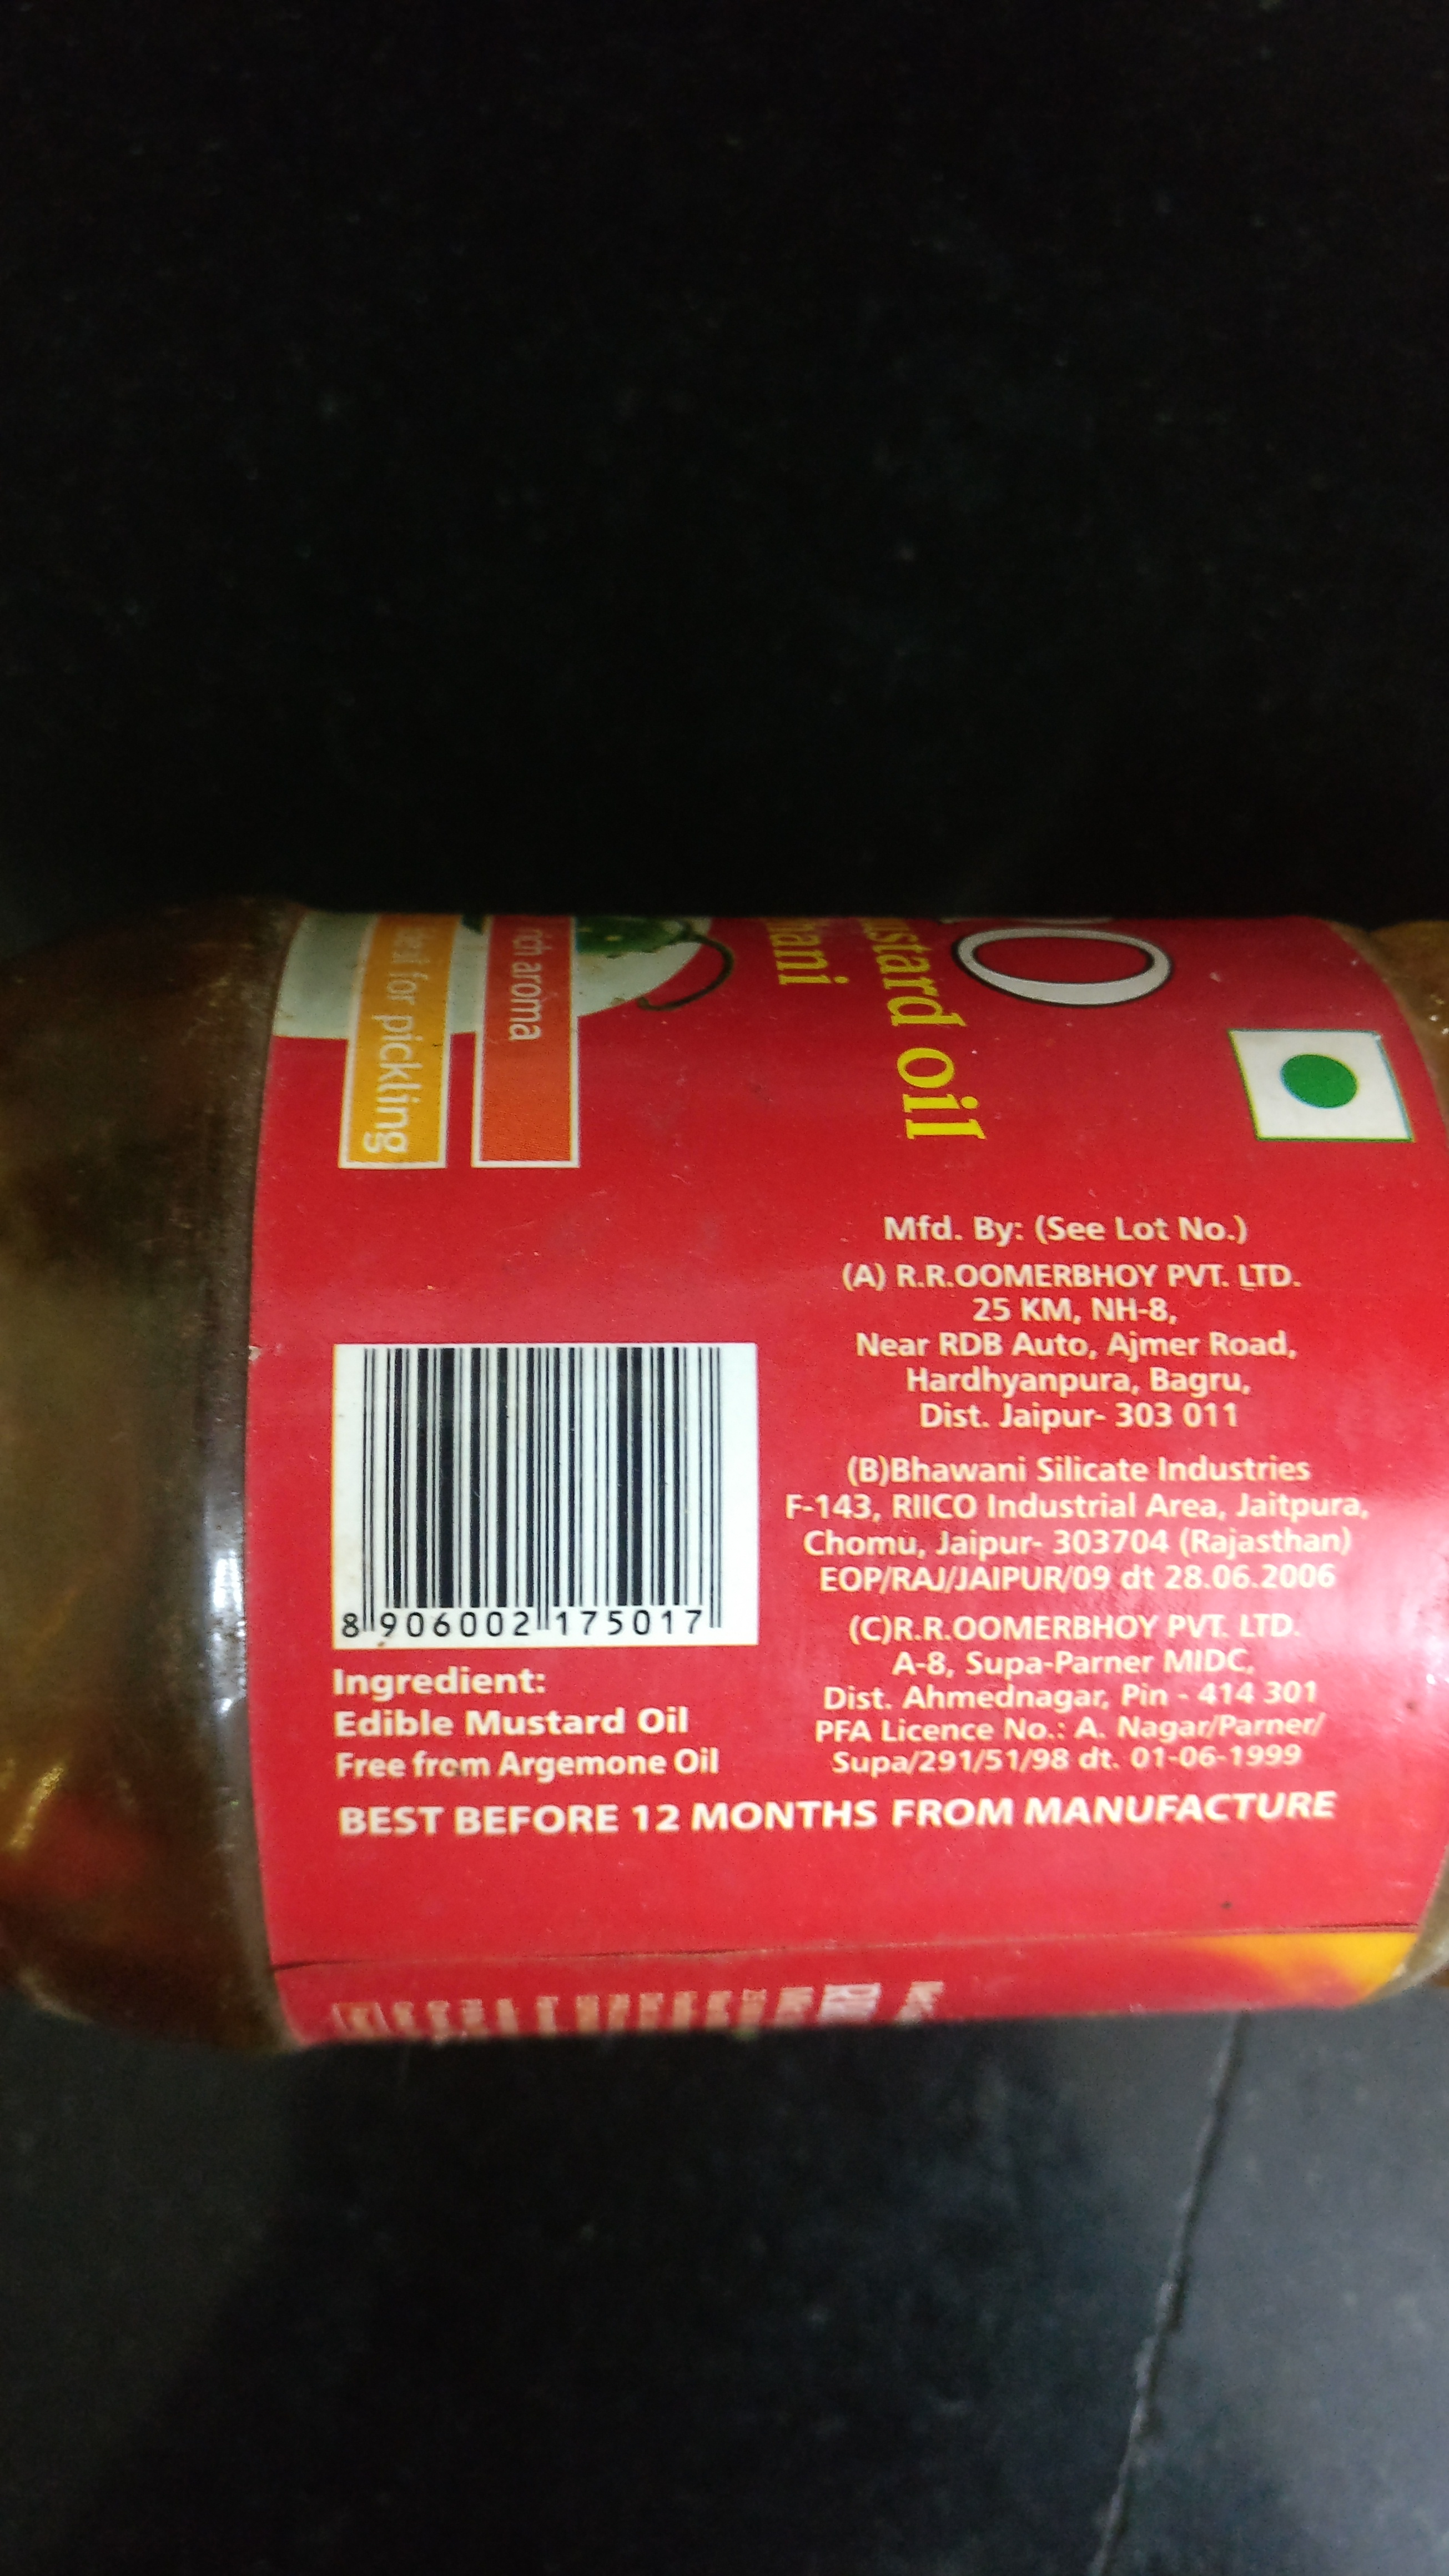barcode: (320, 1327, 754, 1660)
